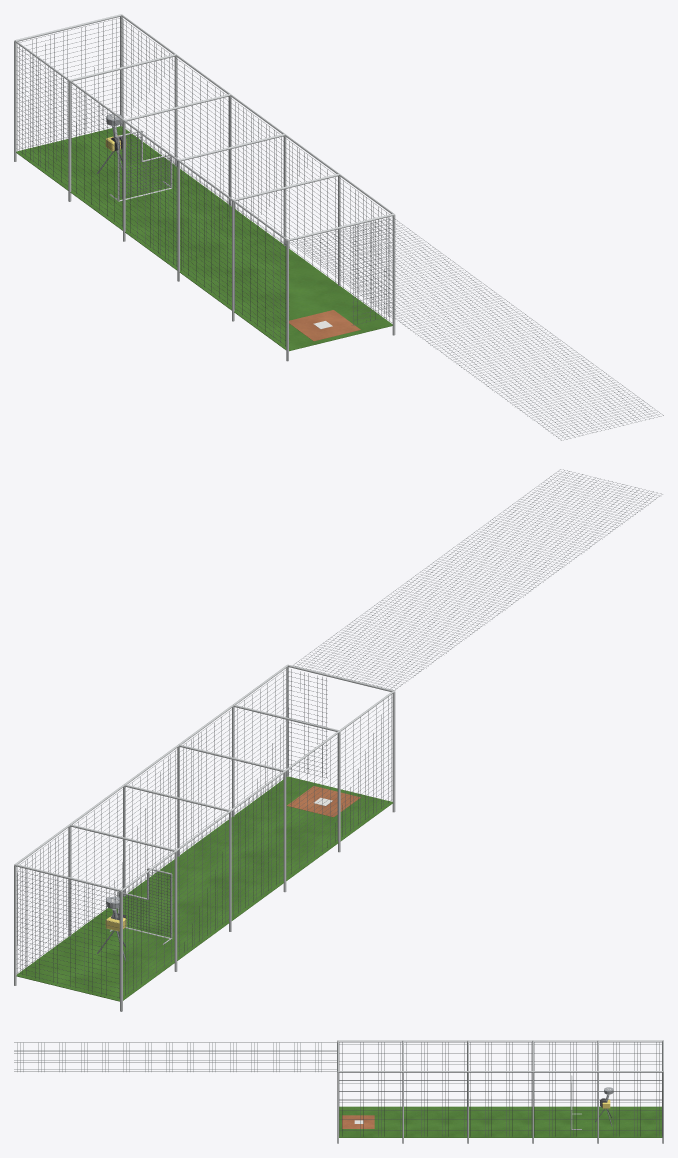
File: batting_cage.glb
The picture shows the model from 3 angles, top to bottom: view 1: azimuth 30°, elevation 25°; view 2: azimuth 150°, elevation 25°; view 3: azimuth 270°, elevation 25°; orthographic projection. The views are drawn at different scales.
Visible parts, largest first — view 1: batting_cage_net, batting_cage_grass2, batting_cage_galv, batting_cage_clay; view 2: batting_cage_net, batting_cage_grass2, batting_cage_galv, batting_cage_clay; view 3: batting_cage_net, batting_cage_grass2, batting_cage_galv, batting_cage_clay.
Part boxes in pixels (box(x1,y1,x2,y2)): batting_cage_net: box(17, 17, 663, 440); batting_cage_grass2: box(16, 126, 392, 351); batting_cage_galv: box(14, 14, 395, 361); batting_cage_clay: box(289, 310, 360, 341); batting_cage_net: box(17, 469, 662, 998); batting_cage_grass2: box(16, 776, 392, 1001); batting_cage_galv: box(14, 664, 395, 1011); batting_cage_clay: box(287, 786, 360, 817); batting_cage_net: box(14, 1042, 662, 1136); batting_cage_grass2: box(339, 1106, 662, 1137); batting_cage_galv: box(337, 1040, 663, 1143); batting_cage_clay: box(342, 1115, 374, 1128).
Bounding box in the file's own units: 3.68 × 3.93 × 31.99.
Materials: 10 (2 with a texture image).
